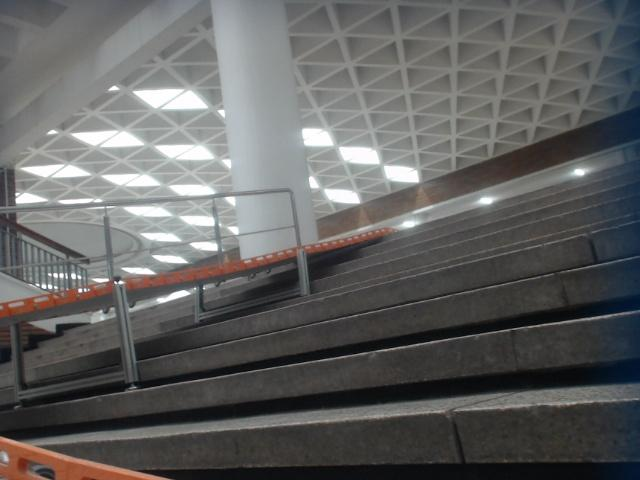rampUp: (0, 226, 384, 326)
ramps-railing: (3, 185, 305, 280)
